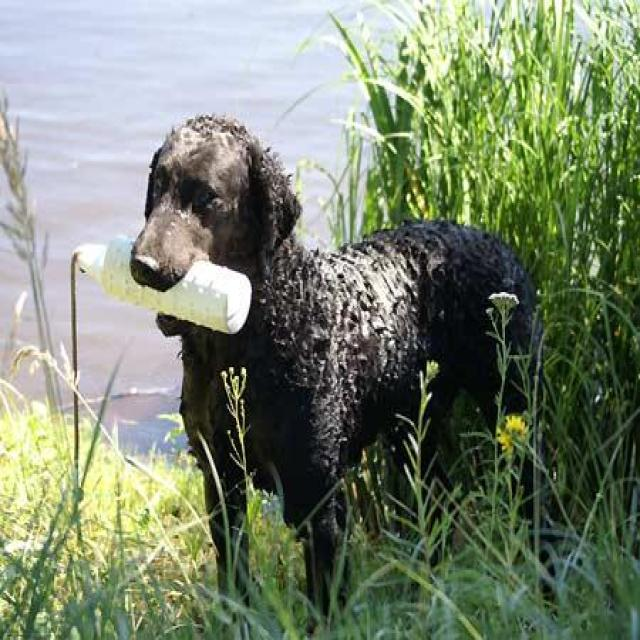dog: (115, 94, 584, 640)
